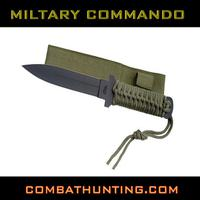knife: (18, 55, 178, 118)
